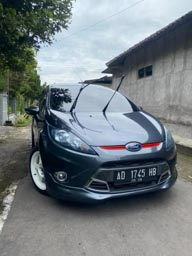plat: (116, 166, 159, 180)
